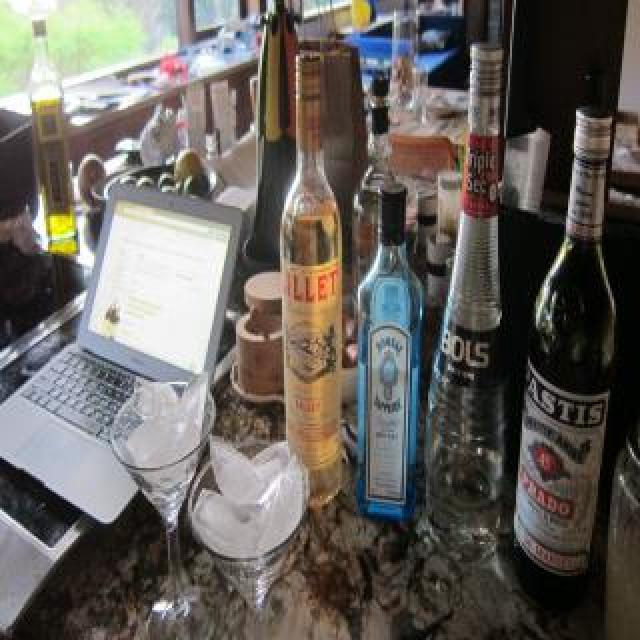laptop_computer: (0, 181, 258, 513)
